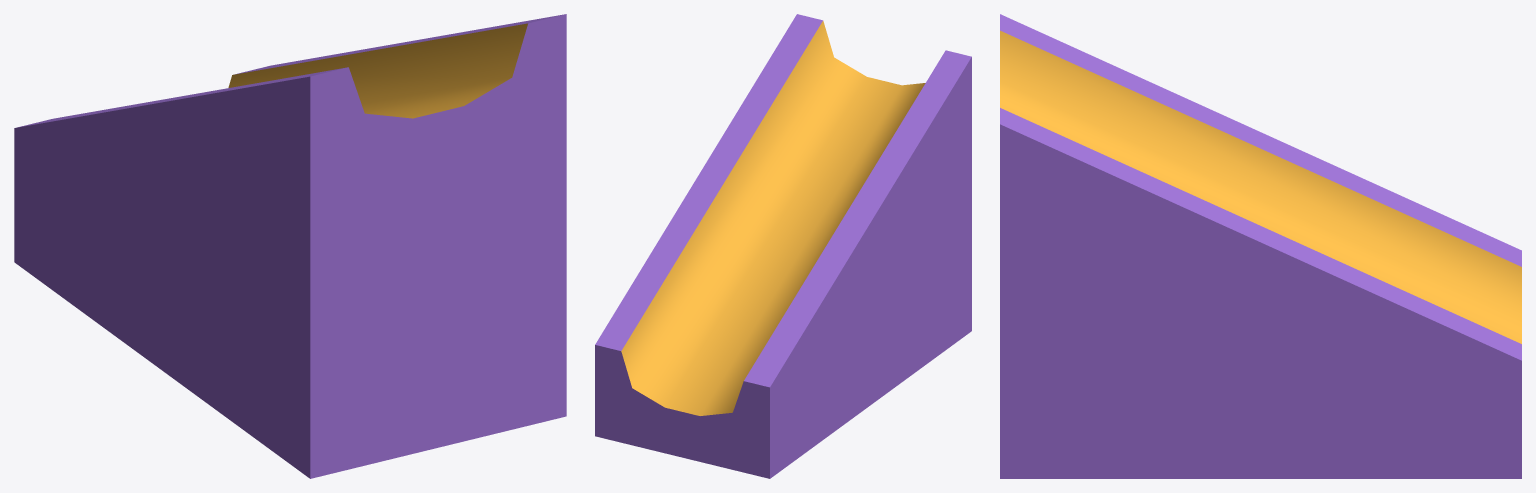
Rendered from slant-solid-long-c.glb.
3 views of the same model, side by side, from view 1: azimuth 30°, elevation 25°; view 2: azimuth 150°, elevation 25°; view 3: azimuth 270°, elevation 25° (orthographic). The views are drawn at different scales.
Visible parts, largest first — view 1: slant-solid-long-c; view 2: slant-solid-long-c; view 3: slant-solid-long-c.
Part boxes in pixels (x1=…): slant-solid-long-c: x1=14, y1=14, x2=566, y2=478; slant-solid-long-c: x1=595, y1=14, x2=971, y2=478; slant-solid-long-c: x1=1000, y1=14, x2=1521, y2=478.
Size of the model in its own units: 1 by 1.5 by 2.
Materials: 1 (1 with a texture image).
